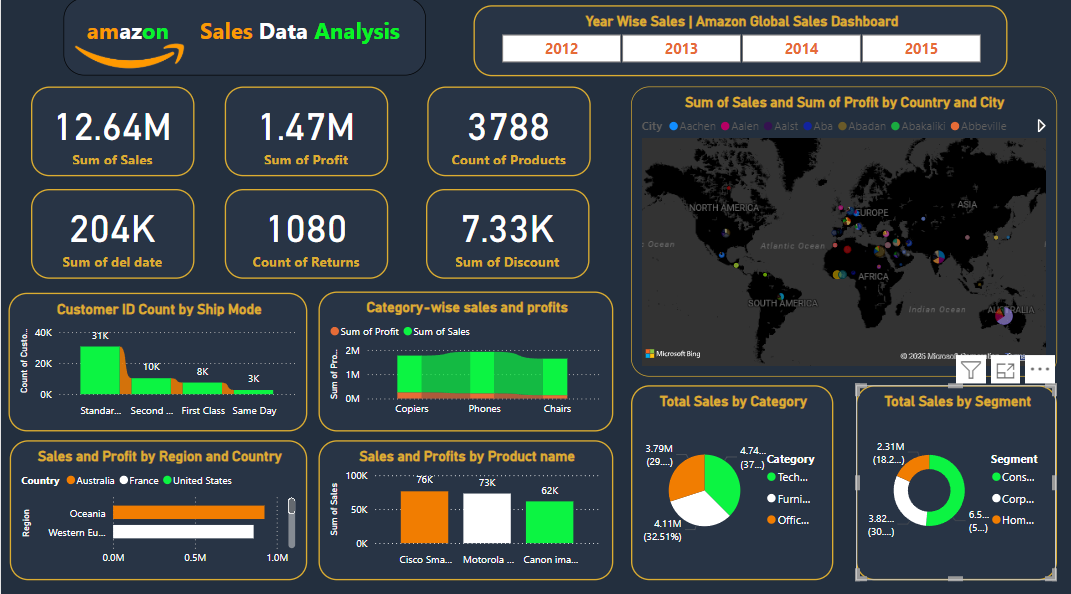

What the dashboard file says about the page in this screenshot:
{"tool":"powerbi","page":{"name":"Page 2","canvas":[1280,720],"ordinal":0},"visuals":[{"type":"map","fields":{"Category":["Orders.Country"],"Series":["Orders.City"],"Size":["Sum(Orders.Sales)"]},"box":[751.7,110.3,508.6,346.6],"z":0},{"type":"textbox","box":[74.1,5.2,432.8,93.1],"z":1000},{"type":"image","box":[72.4,48.3,158.6,56.9],"z":2000},{"type":"slicer","title":"Year Wise Sales | Amazon Global Sales Dashboard","fields":{"Values":["Orders.year"]},"box":[563.8,13.8,637.9,84.5],"z":3000},{"type":"card","fields":{"Values":["Sum(Orders.Sales)"]},"box":[36.2,110.3,194.8,106.9],"z":4000},{"type":"card","fields":{"Values":["Sum(Orders.Profit)"]},"box":[267.2,110.3,194.8,106.9],"z":5000},{"type":"card","fields":{"Values":["Count(Orders.Product Name)"]},"box":[508.6,110.3,194.8,106.9],"z":6000},{"type":"card","fields":{"Values":["Sum(Orders.del date)"]},"box":[36.2,232.8,194.8,106.9],"z":7000},{"type":"card","fields":{"Values":["CountNonNull(Returns.Column1)"]},"box":[267.2,232.8,194.8,106.9],"z":8000},{"type":"card","fields":{"Values":["Sum(Orders.Discount)"]},"box":[506.9,232.8,194.8,106.9],"z":9000},{"type":"pieChart","title":"Total Sales by Category","fields":{"Category":["Orders.Category"],"Y":["Sum(Orders.Sales)"]},"box":[751.7,467.2,241.4,232.8],"z":10000},{"type":"donutChart","title":"Total Sales by Segment","fields":{"Category":["Orders.Segment"],"Y":["Sum(Orders.Sales)"]},"box":[1020.7,467.2,239.7,232.8],"z":11000},{"type":"columnChart","title":"Sales and Profits by Product name","fields":{"Category":["Orders.Product Name"],"Y":["Sum(Orders.Sales)"]},"box":[379.3,532.8,351.7,167.2],"z":12000},{"type":"ribbonChart","title":"Category-wise sales and profits","fields":{"Category":["Orders.Sub-Category"],"Y":["Sum(Orders.Profit)","Sum(Orders.Sales)"]},"box":[379.3,355.2,351.7,167.2],"z":13000},{"type":"columnChart","title":"Customer ID Count by Ship Mode","fields":{"Category":["Orders.Ship Mode"],"Y":["CountNonNull(Orders.Customer ID)"]},"box":[8.6,356.9,356.9,165.5],"z":14000},{"type":"barChart","title":"Sales and Profit by Region and Country","fields":{"Category":["Orders.Region"],"Y":["Sum(Orders.Sales)"],"Series":["Orders.Country"]},"box":[10.3,532.8,355.2,167.2],"z":15000}]}

Visuals, with their boxes in screenshot pixels (x1, y1, x2, y2), scaled from the page's 1280x720 canvas onto the 1071x594 screenshot:
map - Orders.Country x Orders.City: Rect(629, 91, 1055, 377)
textbox: Rect(62, 4, 424, 81)
image: Rect(61, 40, 193, 87)
"Year Wise Sales | Amazon Global Sales Dashboard" slicer: Rect(472, 11, 1005, 81)
card - Sum(Orders.Sales): Rect(30, 91, 193, 179)
card - Sum(Orders.Profit): Rect(224, 91, 387, 179)
card - Count(Orders.Product Name): Rect(426, 91, 589, 179)
card - Sum(Orders.del date): Rect(30, 192, 193, 280)
card - CountNonNull(Returns.Column1): Rect(224, 192, 387, 280)
card - Sum(Orders.Discount): Rect(424, 192, 587, 280)
"Total Sales by Category" pieChart: Rect(629, 385, 831, 578)
"Total Sales by Segment" donutChart: Rect(854, 385, 1055, 578)
"Sales and Profits by Product name" columnChart: Rect(317, 440, 612, 578)
"Category-wise sales and profits" ribbonChart: Rect(317, 293, 612, 431)
"Customer ID Count by Ship Mode" columnChart: Rect(7, 294, 306, 431)
"Sales and Profit by Region and Country" barChart: Rect(9, 440, 306, 578)
